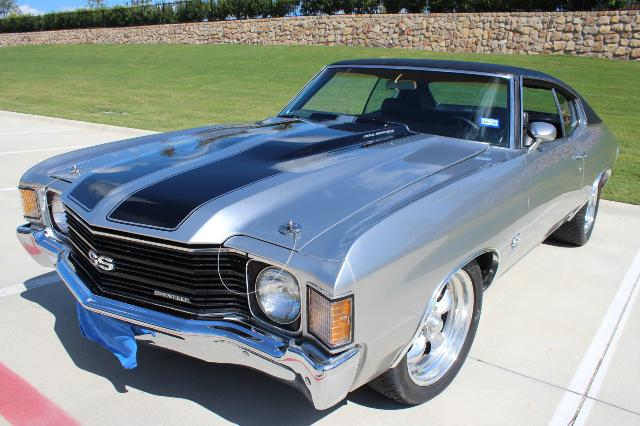chevelle-1972: (17, 59, 619, 409)
